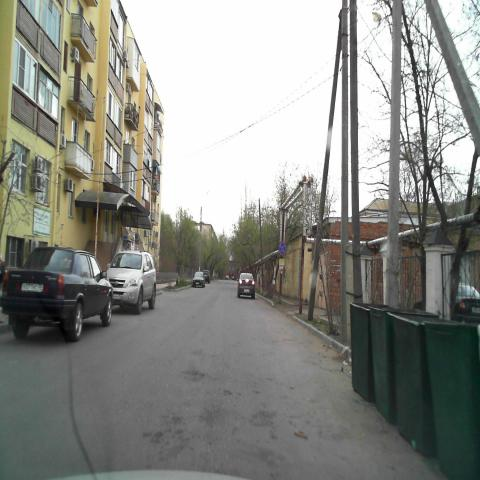3_27: (278, 241, 286, 256)
